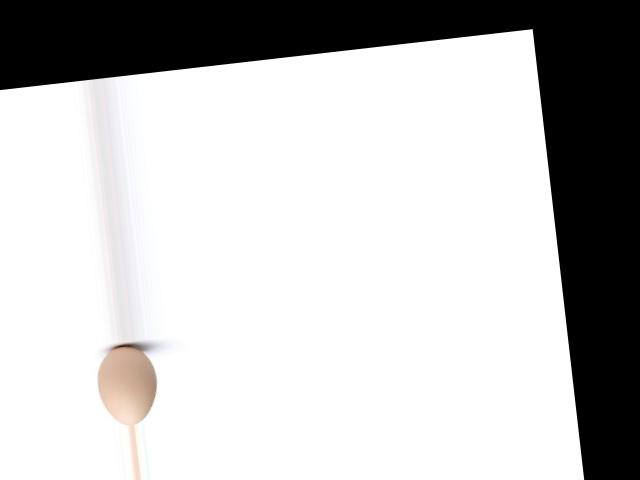egg: (93, 342, 160, 427)
